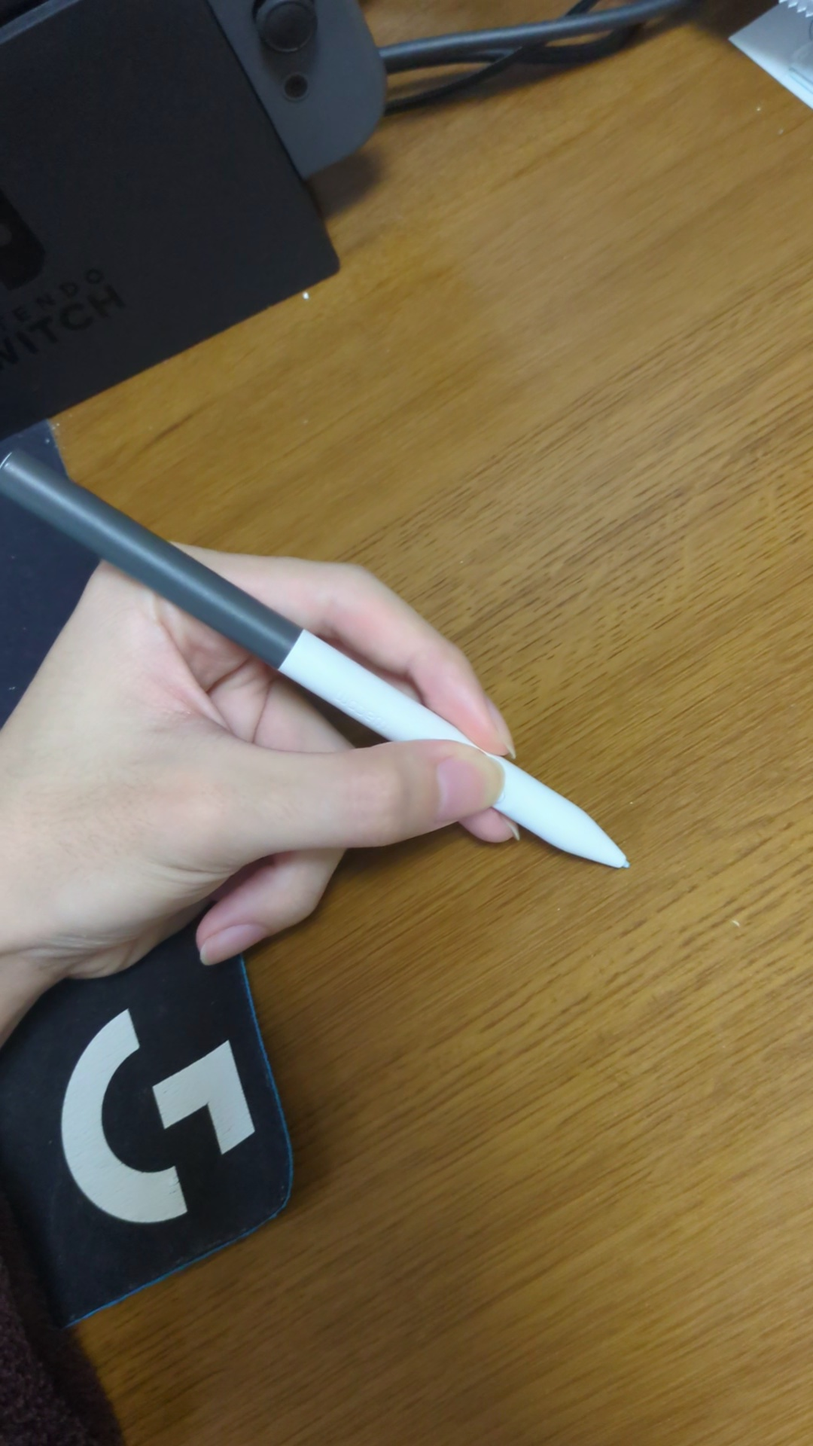pen: (9, 456, 640, 876)
tip: (614, 852, 644, 876)
